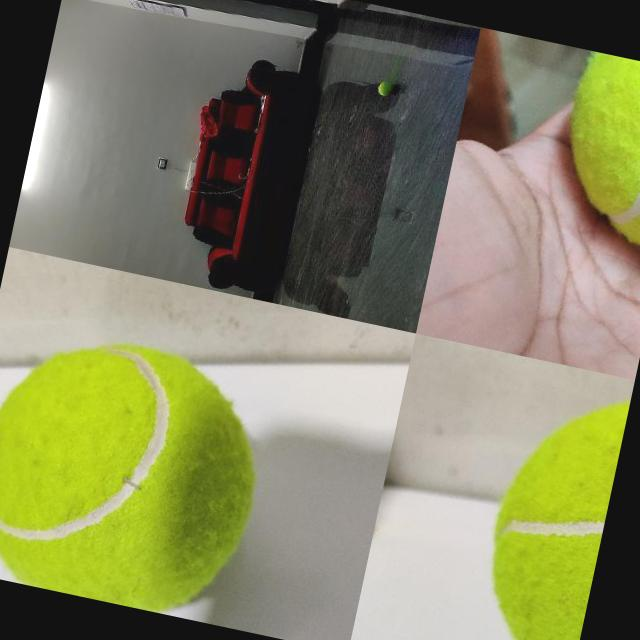tennis-ball: (0, 314, 280, 626), (460, 365, 632, 640), (546, 49, 640, 253), (375, 80, 394, 98)
